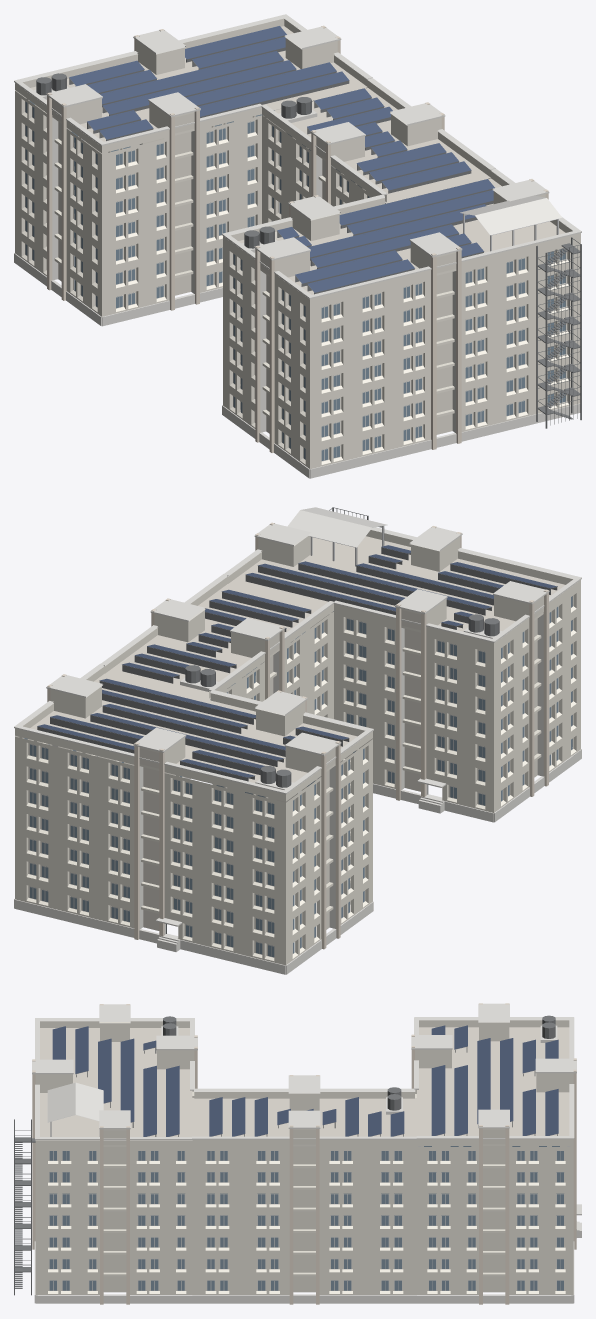
File: Sindhu_Hostel_A.fbx
3 renders of one model, top to bottom at view 1: azimuth 30°, elevation 25°; view 2: azimuth 150°, elevation 25°; view 3: azimuth 270°, elevation 25°, orthographic. The views are drawn at different scales.
Parts seen in each view (by area): view 1: Sindhu_Hostel_A; view 2: Sindhu_Hostel_A; view 3: Sindhu_Hostel_A.
Part boxes in pixels (x1,y1,x2,y2): Sindhu_Hostel_A: (14,14,581,478); Sindhu_Hostel_A: (14,507,581,974); Sindhu_Hostel_A: (14,1003,581,1304).
Size of the model in its own units: 41.6 by 28.82 by 80.88.
